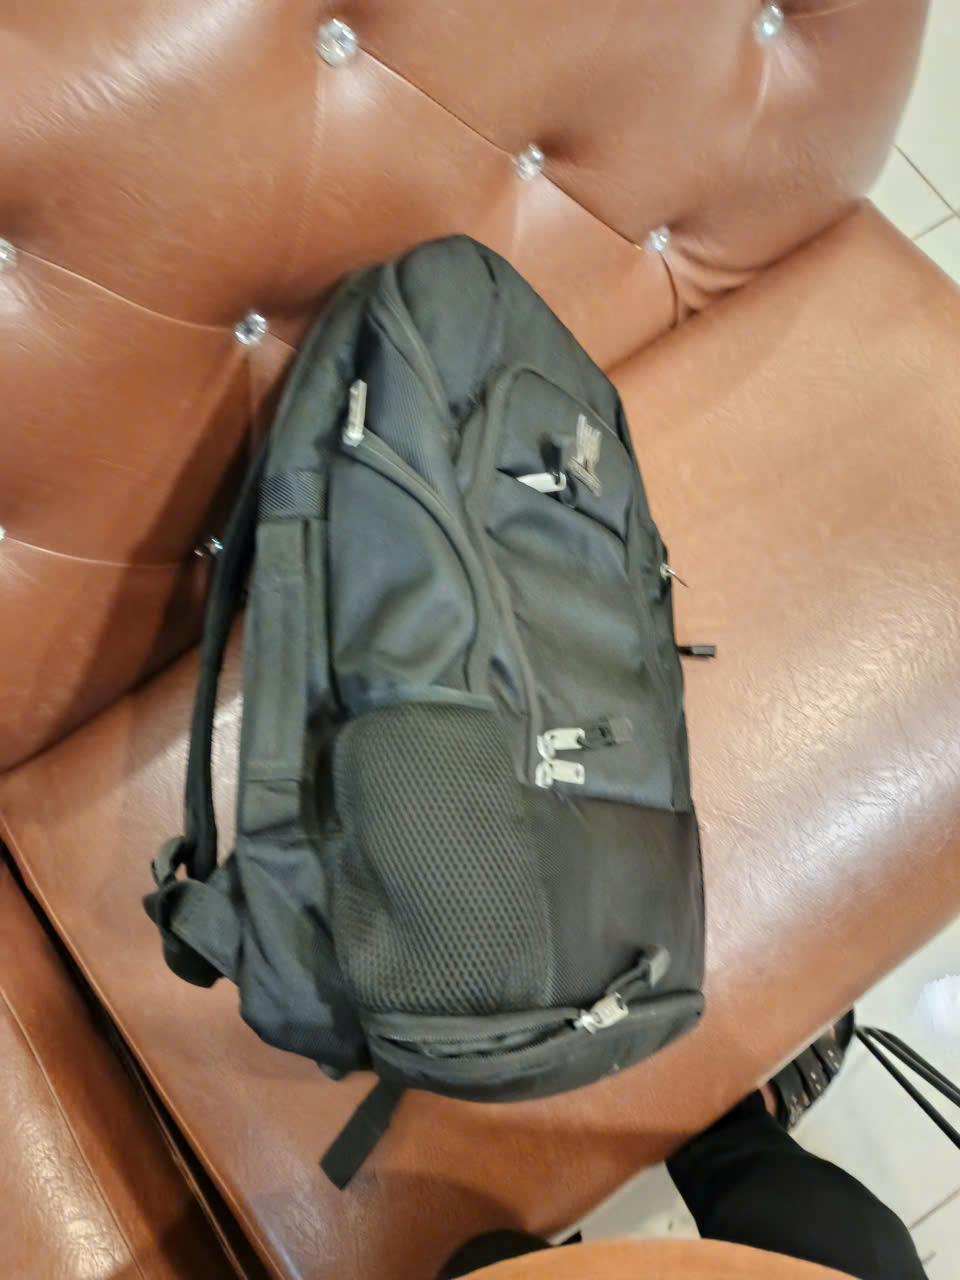Con lai: (145, 228, 710, 1105)
